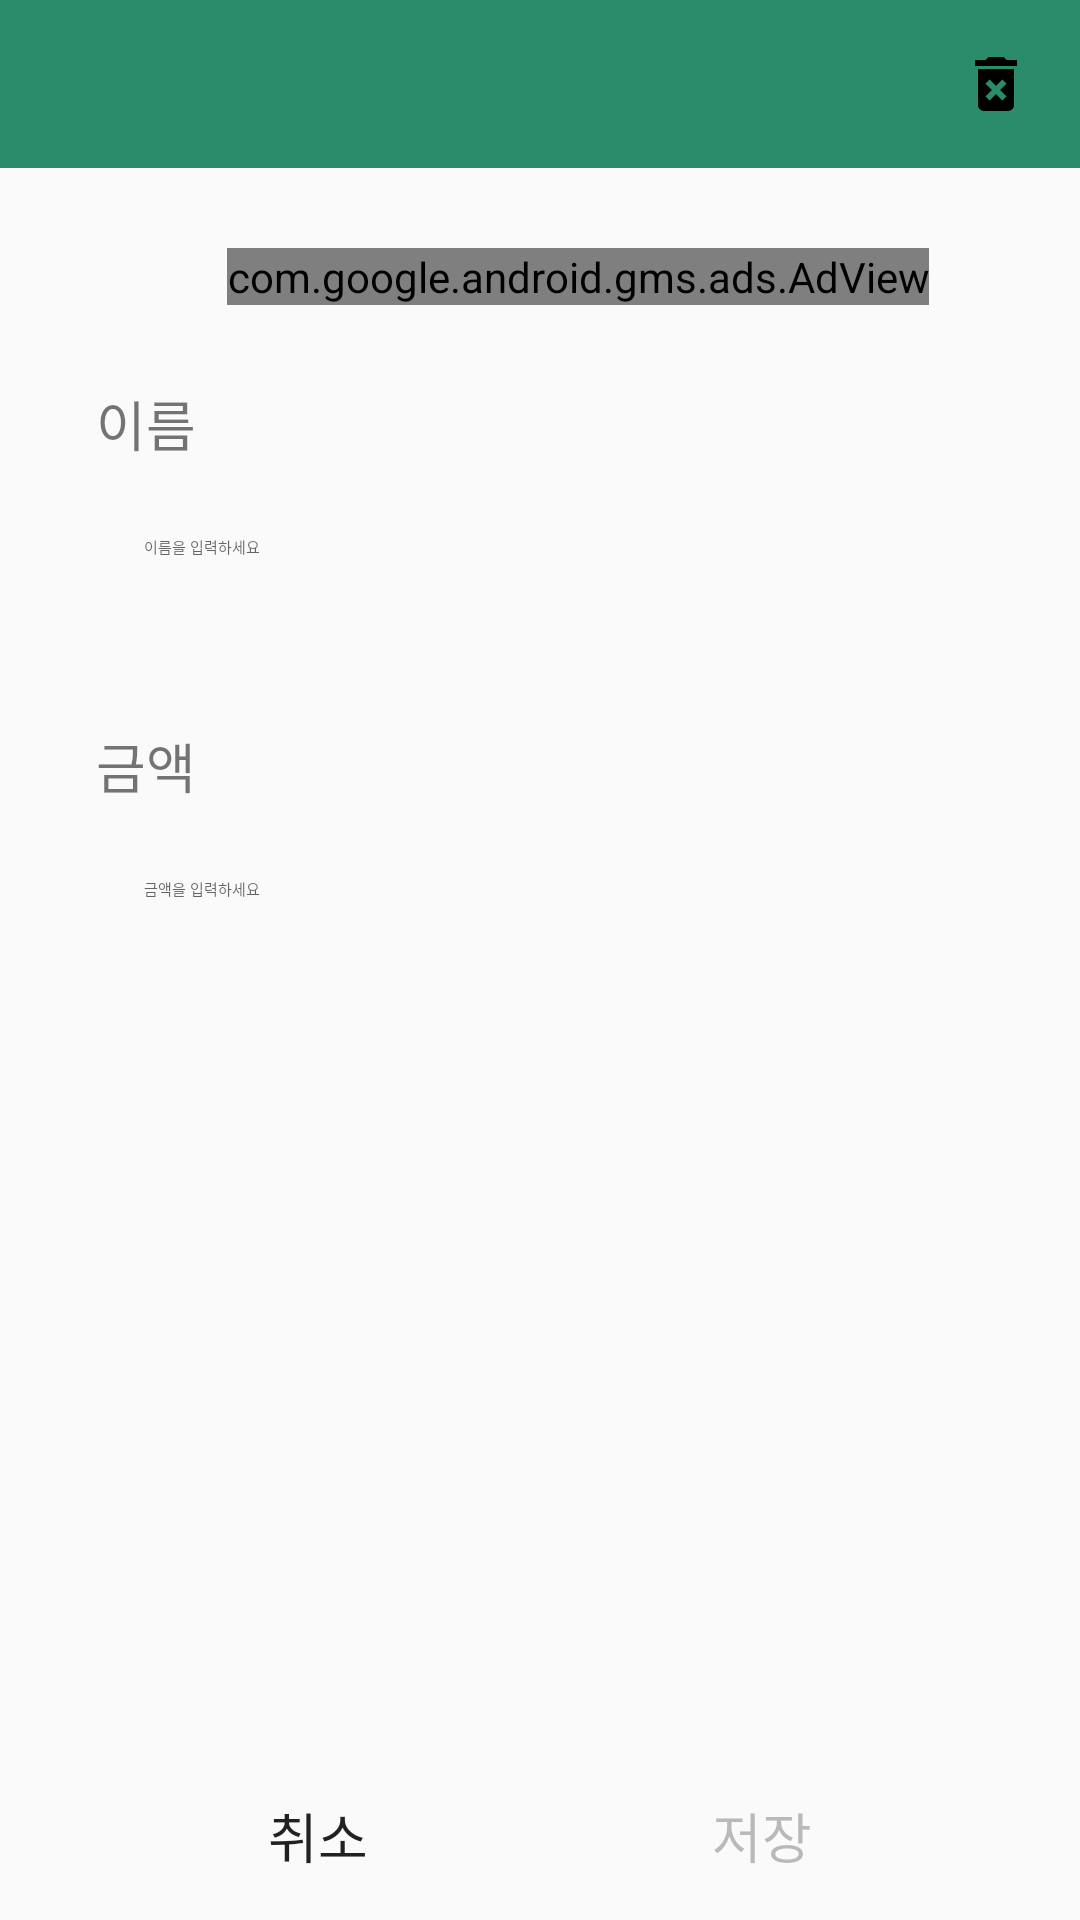

Screen size 1080 × 1920. Icon name, then its center in pixels as point (x, y):
삭제: point (996, 84)
